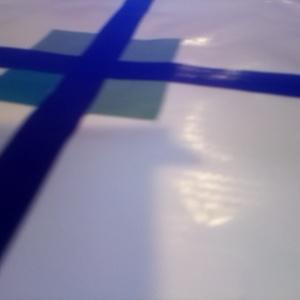bottom_left: (1, 69, 64, 106)
bottom_right: (65, 62, 167, 118)
top_left: (30, 30, 117, 71)
top_right: (93, 39, 181, 78)
